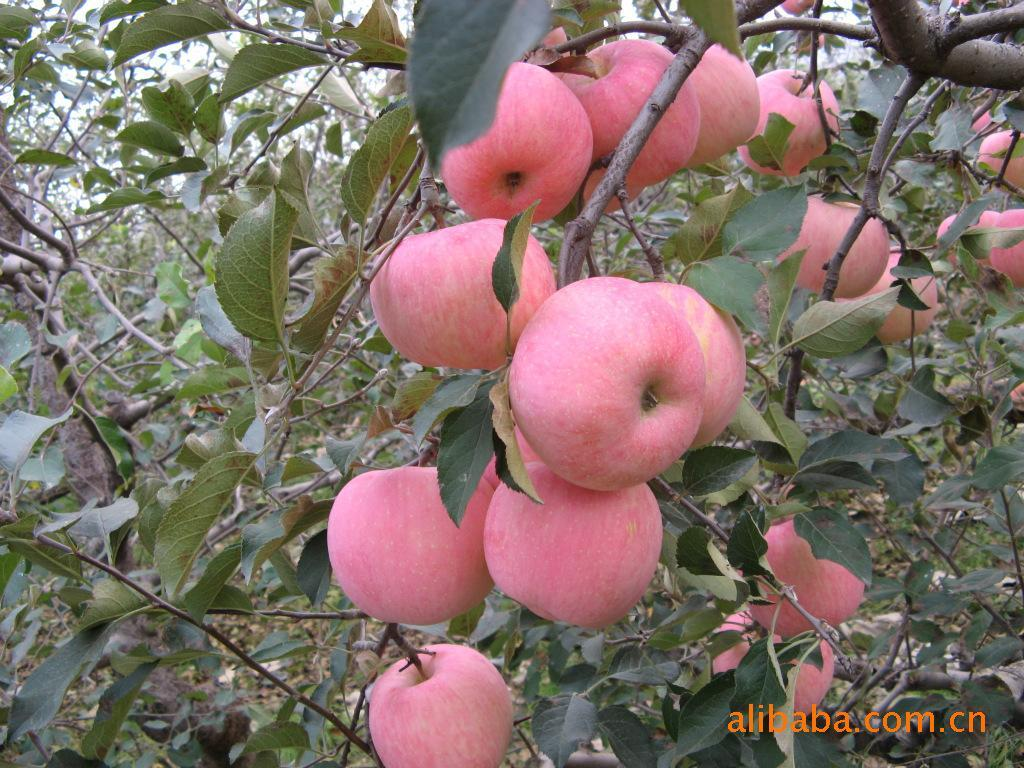apple: (503, 271, 710, 490), (478, 456, 668, 631), (367, 213, 556, 374), (324, 463, 501, 629), (440, 57, 596, 223), (554, 32, 698, 183), (360, 641, 512, 768), (755, 187, 893, 301), (761, 512, 868, 635), (739, 71, 841, 181), (683, 40, 759, 165)
